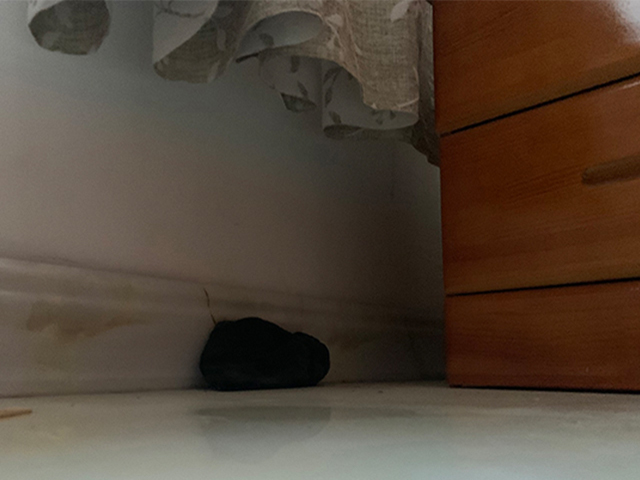cabinet: (431, 1, 640, 395)
